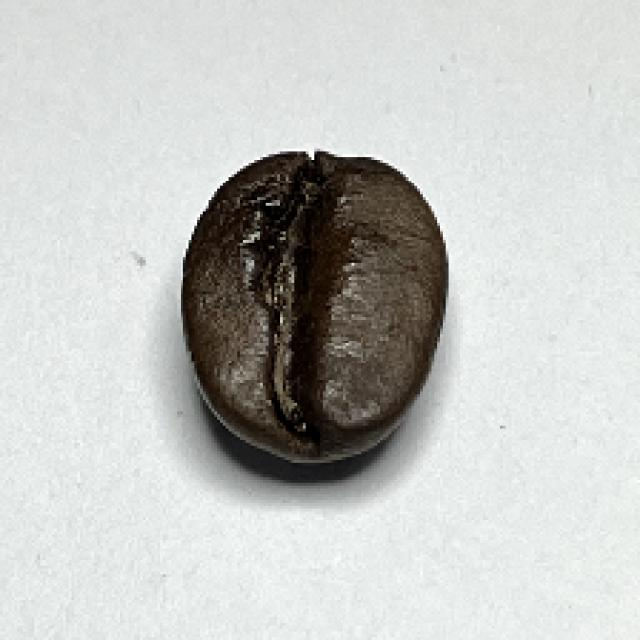bean: (177, 145, 452, 465)
